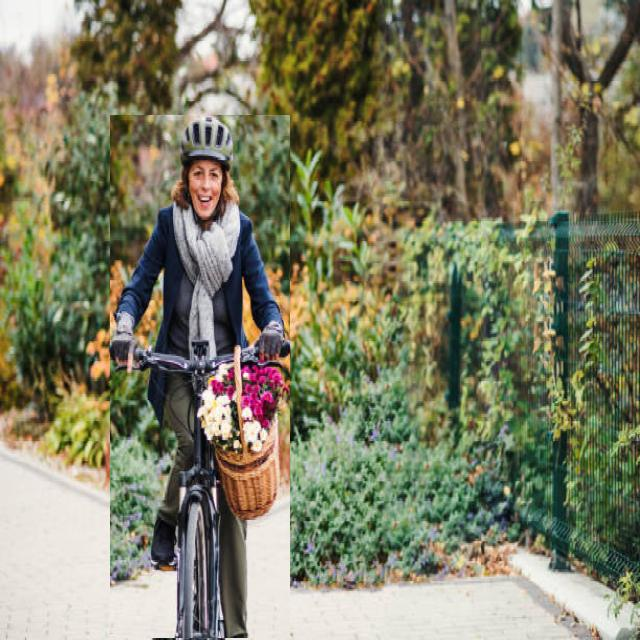bicycle: (110, 116, 290, 638)
